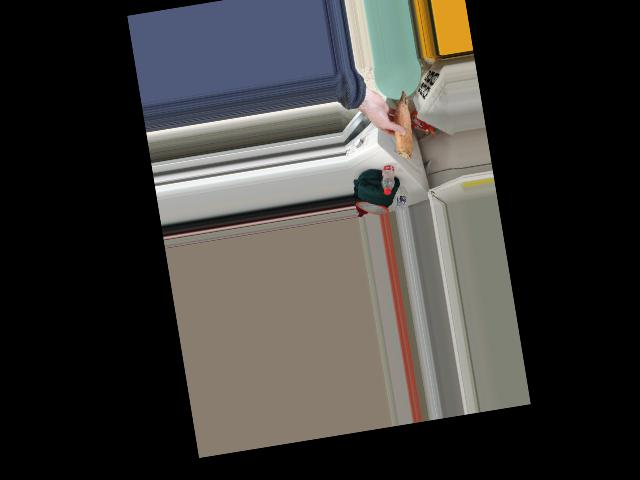sweet_potato: (384, 90, 421, 163)
